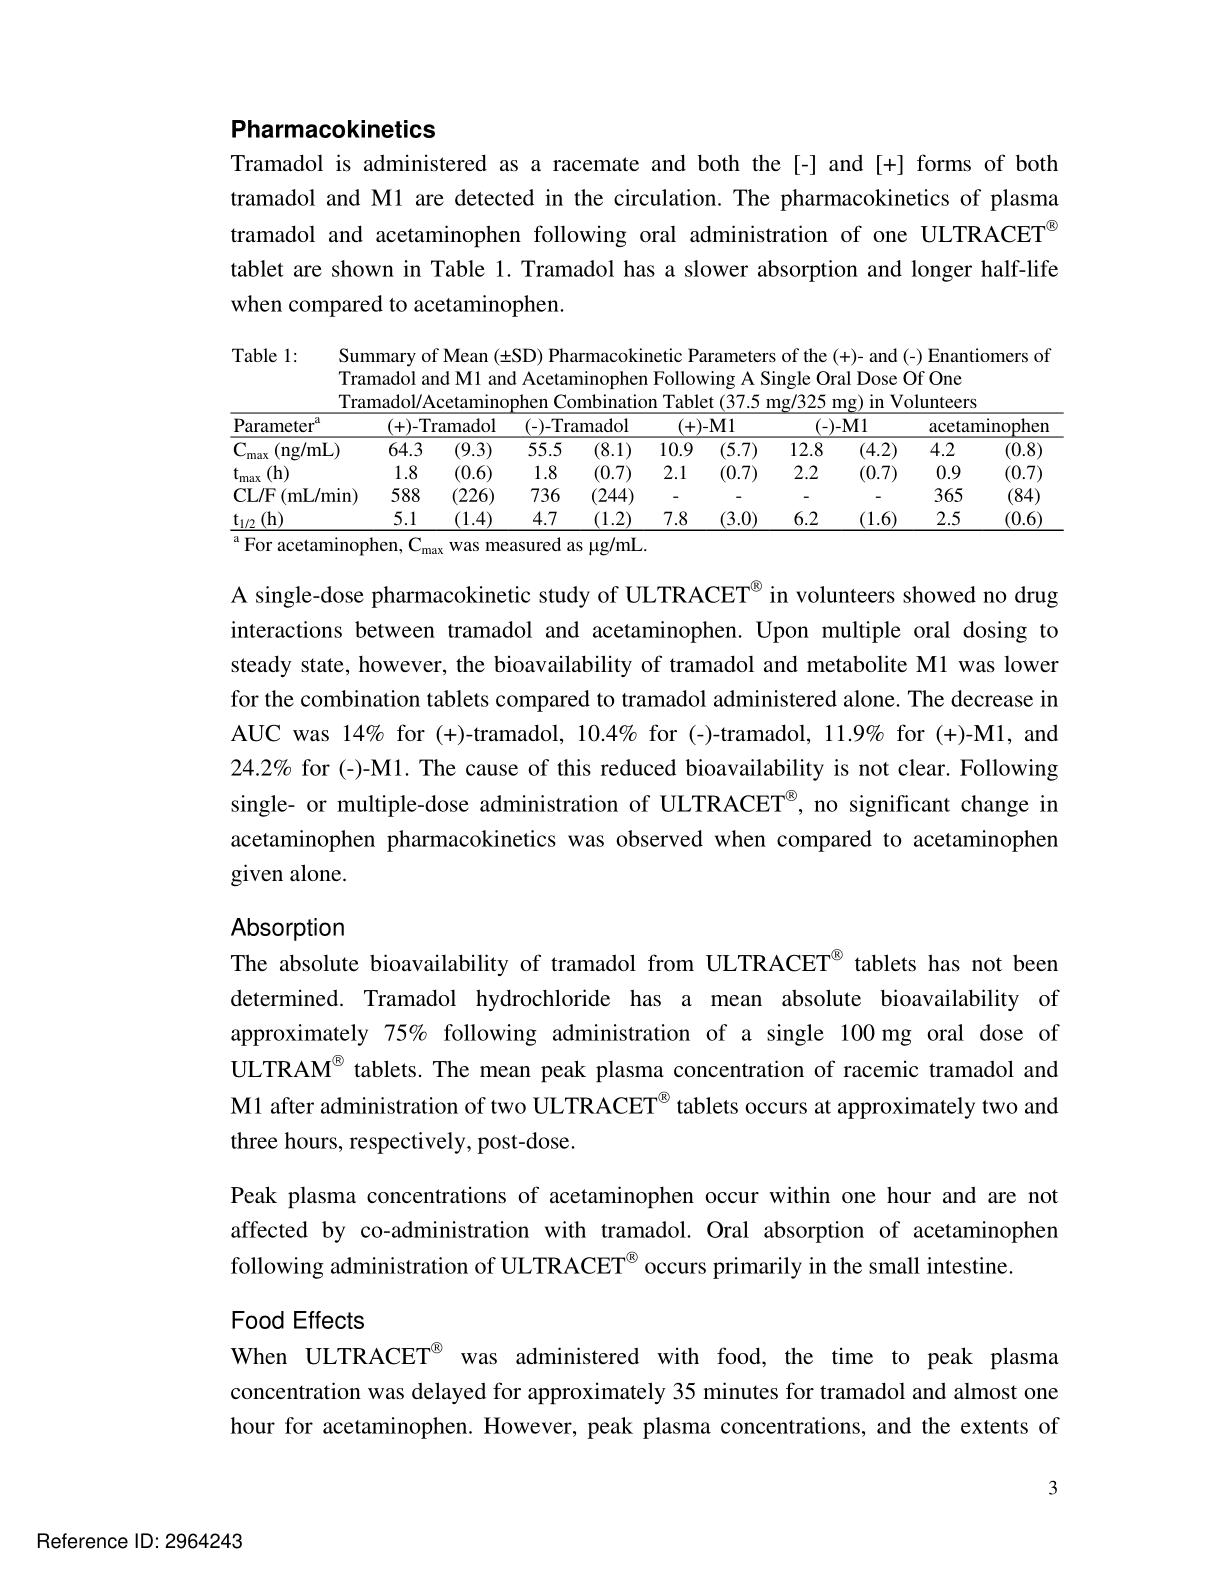partial_lined: (228, 409, 1063, 532)
